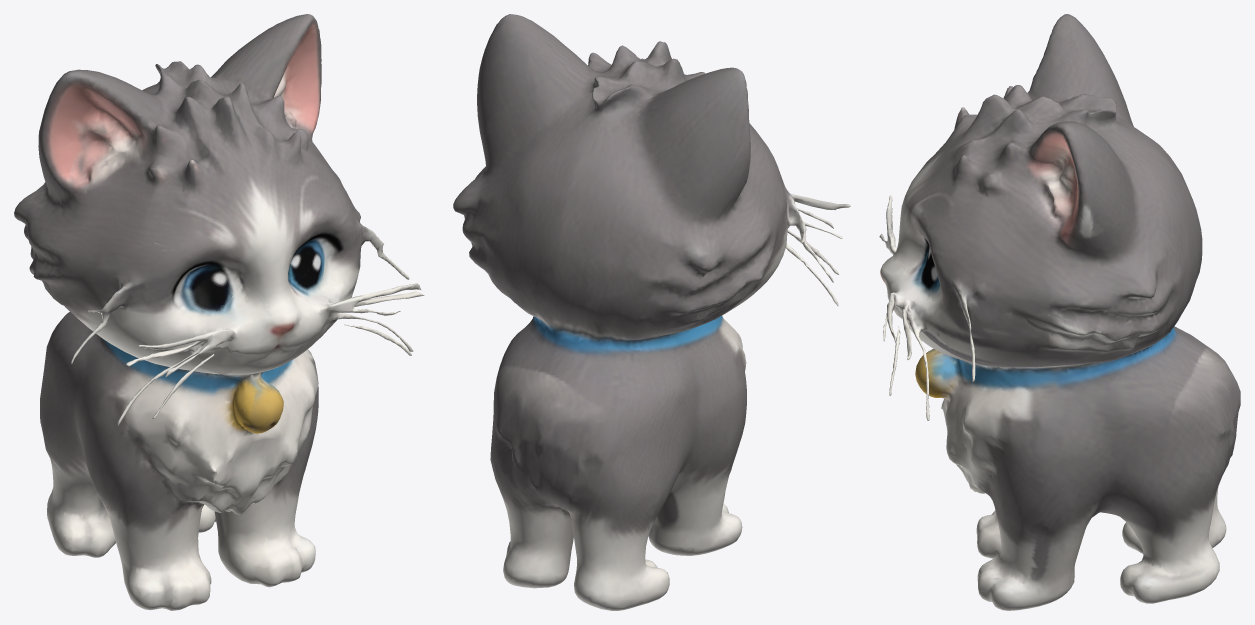
Rendered from cat_textured.glb.
The picture shows the model from 3 angles, left to right: view 1: azimuth 30°, elevation 25°; view 2: azimuth 150°, elevation 25°; view 3: azimuth 270°, elevation 25°; orthographic projection. The views are drawn at different scales.
Parts seen in each view (by area): view 1: Cat_Mesh; view 2: Cat_Mesh; view 3: Cat_Mesh.
Boxes of the visible parts, left/top/right/bottom form: Cat_Mesh: left=14, top=14, right=424, bottom=610; Cat_Mesh: left=453, top=14, right=850, bottom=610; Cat_Mesh: left=879, top=14, right=1240, bottom=610.
Size of the model in its own units: 0.3521 by 0.5224 by 0.339.
1 material, 1 textured.
